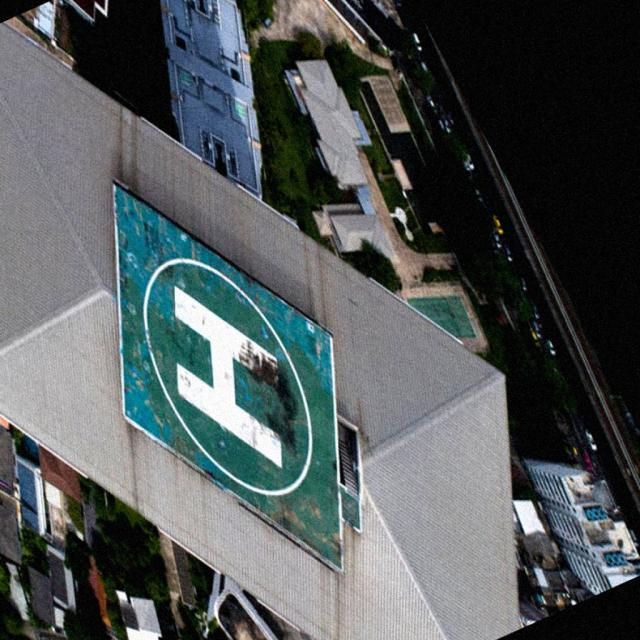helipad: (138, 253, 314, 499)
